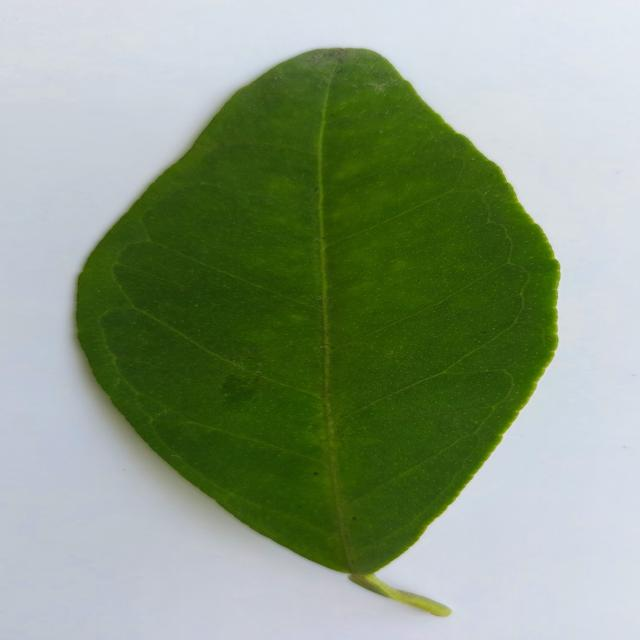greening: (77, 49, 558, 609)
